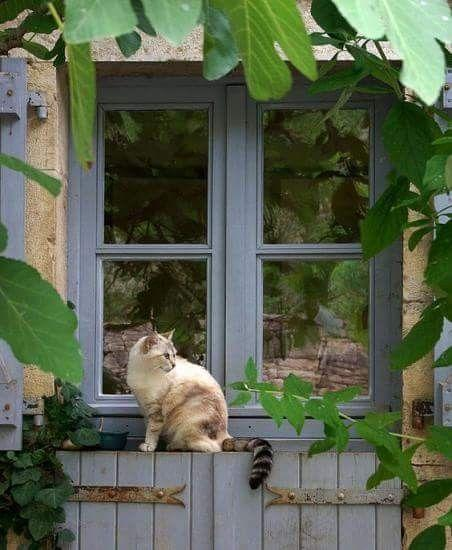kedo: (128, 330, 272, 488)
